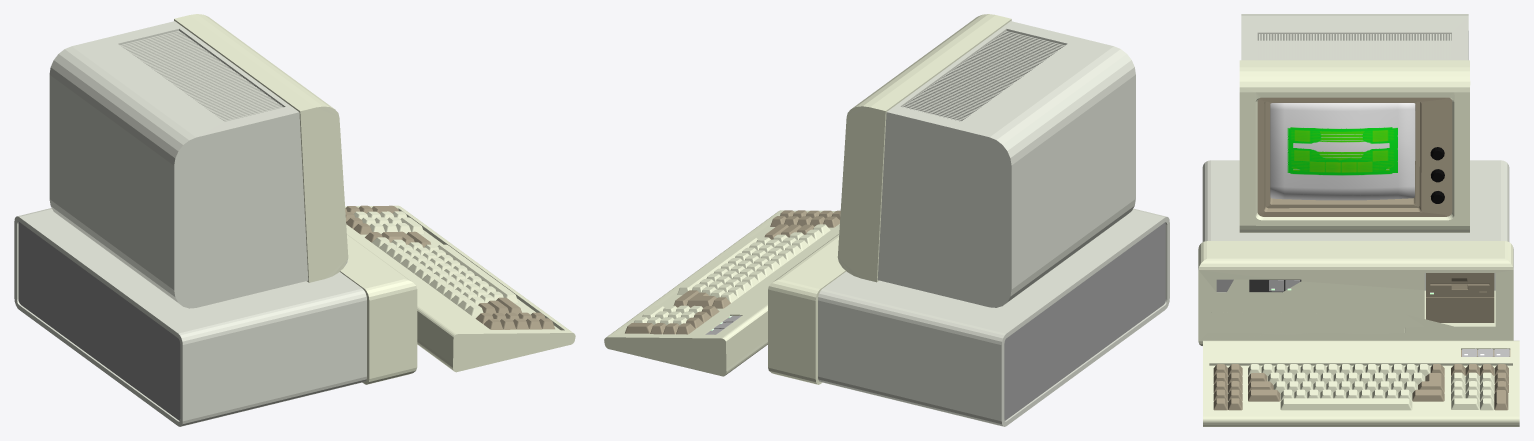
Rendered from cpu.fbx.
3 views of the same model, side by side, from view 1: azimuth 30°, elevation 25°; view 2: azimuth 150°, elevation 25°; view 3: azimuth 270°, elevation 25° (orthographic). The views are drawn at different scales.
Parts seen in each view (by area): view 1: monitor, cpu, kewboard, vent monitor, Plane.004, Plane.005, Plane.007, Plane.002, Plane.001, Plane.009; view 2: monitor, cpu, kewboard, vent monitor, Plane.004, Plane.005, Plane.007, Plane.002, Plane.009, Plane.003; view 3: cpu, monitor, kewboard, Cube, vent monitor, flopy, Plane.002, Plane.004, Plane.005, Plane.007, Plane.009, Plane.003 (+10 smaller).
Part boxes in pixels (x1,y1,x2,y2): monitor: (49, 14, 348, 308); cpu: (14, 208, 417, 426); kewboard: (345, 205, 575, 372); vent monitor: (120, 31, 283, 121); Plane.004: (372, 237, 483, 315); Plane.005: (391, 239, 484, 305); Plane.007: (408, 242, 494, 302); Plane.002: (437, 244, 518, 302); Plane.001: (483, 318, 554, 329); Plane.009: (424, 244, 503, 300); monitor: (837, 14, 1135, 307); cpu: (768, 208, 1169, 426); kewboard: (604, 210, 839, 376); vent monitor: (902, 31, 1064, 121); Plane.004: (721, 224, 830, 302); Plane.005: (710, 232, 803, 297); Plane.007: (701, 234, 787, 295); Plane.002: (677, 237, 757, 294); Plane.009: (692, 237, 770, 292); Plane.003: (770, 216, 839, 227); cpu: (1198, 160, 1513, 345); monitor: (1239, 14, 1470, 232); kewboard: (1203, 340, 1519, 426); Cube: (1270, 103, 1415, 200); vent monitor: (1259, 34, 1451, 59); flopy: (1426, 273, 1494, 322); Plane.002: (1280, 398, 1412, 410); Plane.004: (1248, 364, 1430, 376); Plane.005: (1268, 372, 1425, 384); Plane.007: (1273, 381, 1417, 393); Plane.009: (1280, 389, 1411, 401); Plane.003: (1228, 364, 1242, 410).
Bounding box in the file's own units: 473 × 322 × 368.
